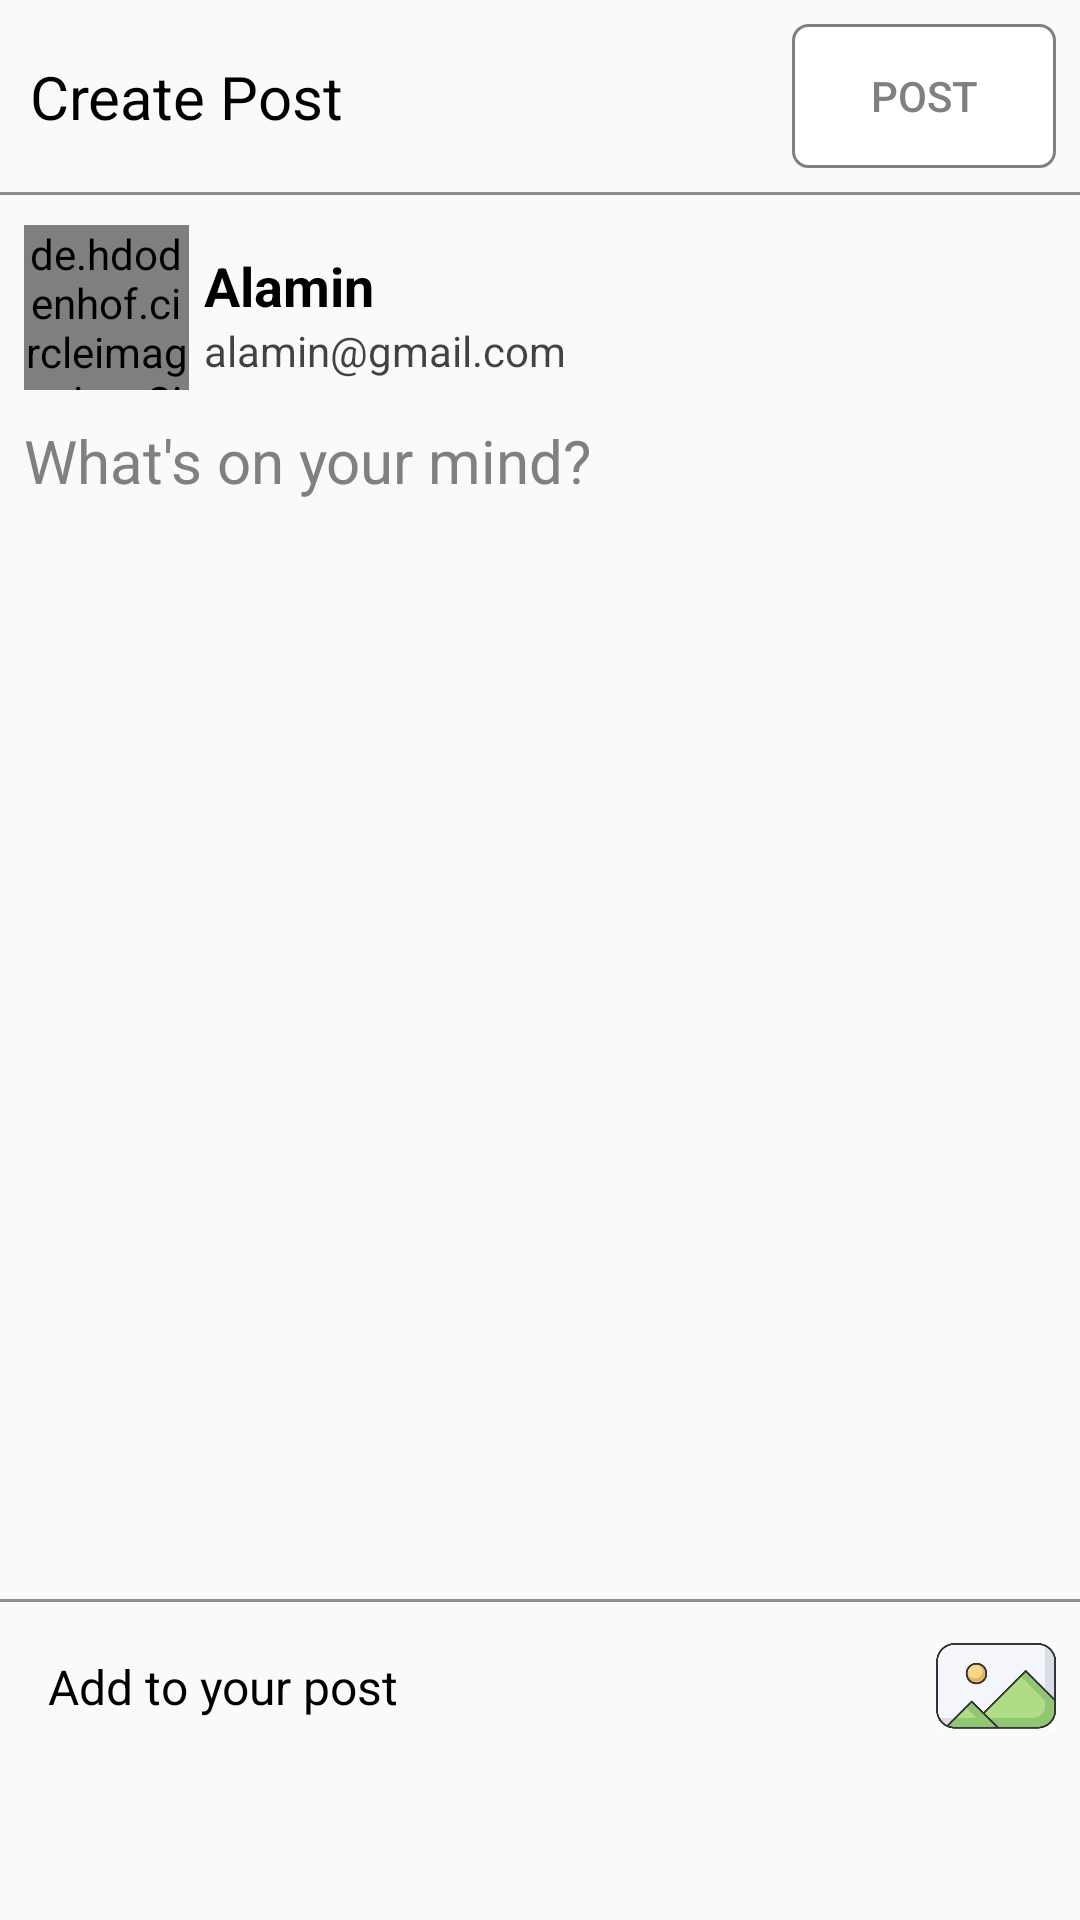

Icons on this 1080px×1920px Android screen, each with its box as (x1, y1, x2, y2):
plecholder: (936, 1643, 1056, 1729)
